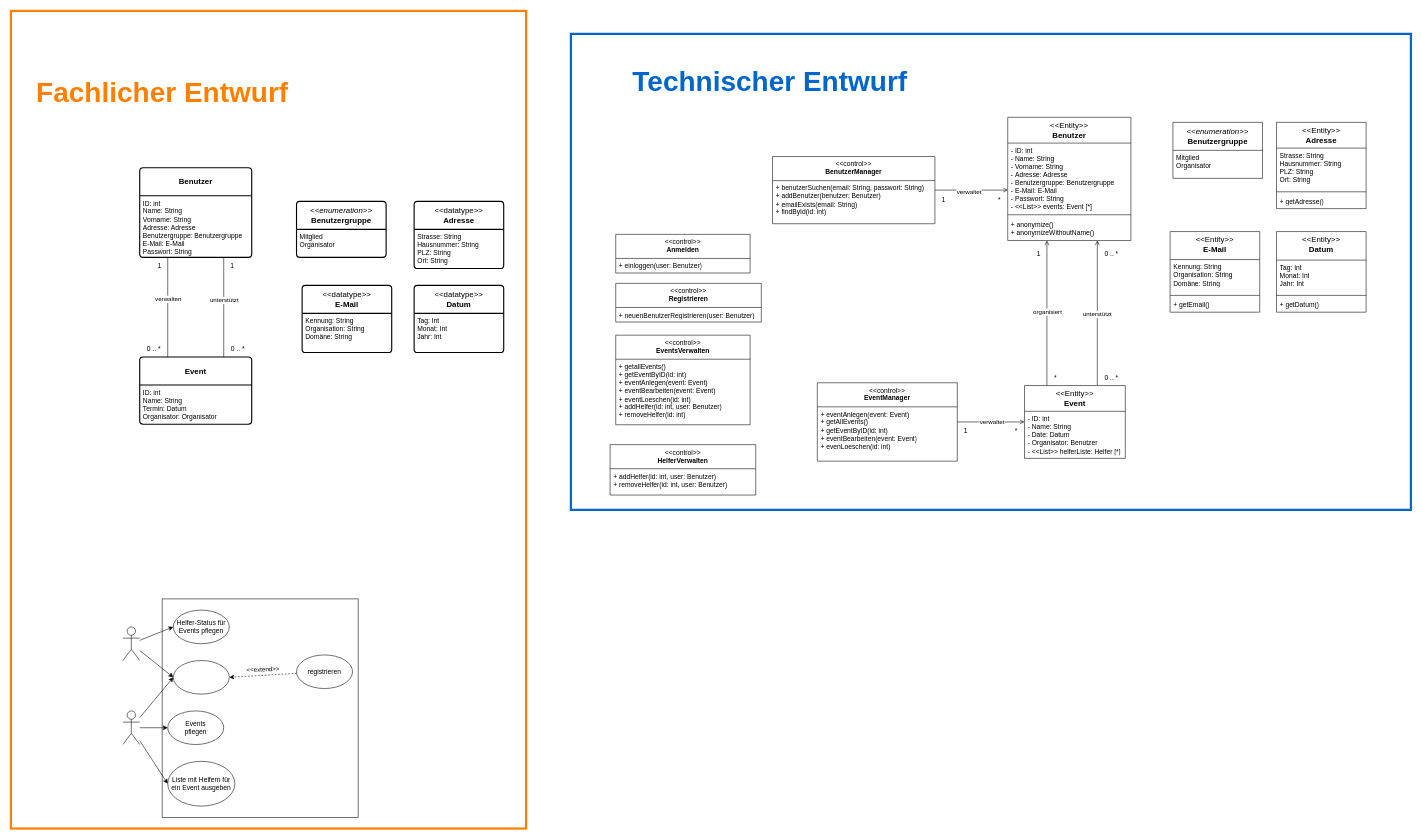
Some shapes in this 1421 by 839 pixel diagram are drawn without their labels. Each missing label, with the centre of its shape:
anmelden: [201,677]
Mitglied: [131,643]
Organisator: [131,727]
